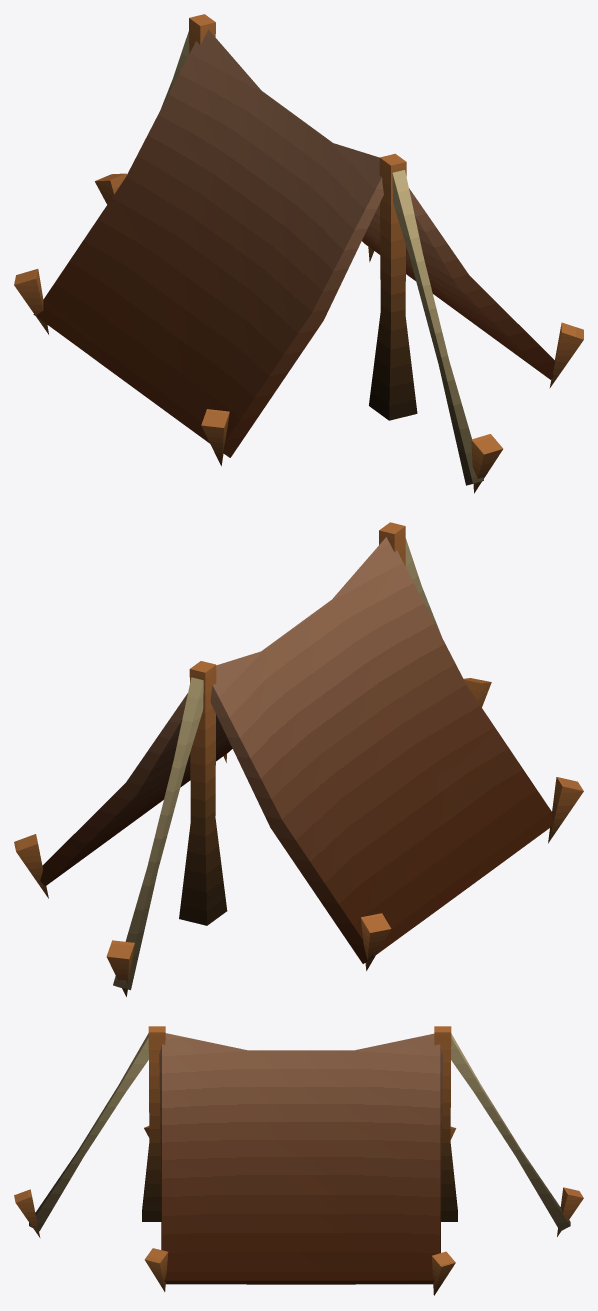
File: house_lvl1.fbx
The picture shows the model from 3 angles, top to bottom: view 1: azimuth 30°, elevation 25°; view 2: azimuth 150°, elevation 25°; view 3: azimuth 270°, elevation 25°; orthographic projection. The views are drawn at different scales.
Visible parts, largest first — view 1: house_lvl1.001; view 2: house_lvl1.001; view 3: house_lvl1.001.
Part boxes in pixels (x1,y1,x2,y2): house_lvl1.001: (14,14,583,493); house_lvl1.001: (14,522,583,996); house_lvl1.001: (14,1026,583,1295).
Bounding box in the file's own units: 0.304 × 0.2096 × 0.5202.
